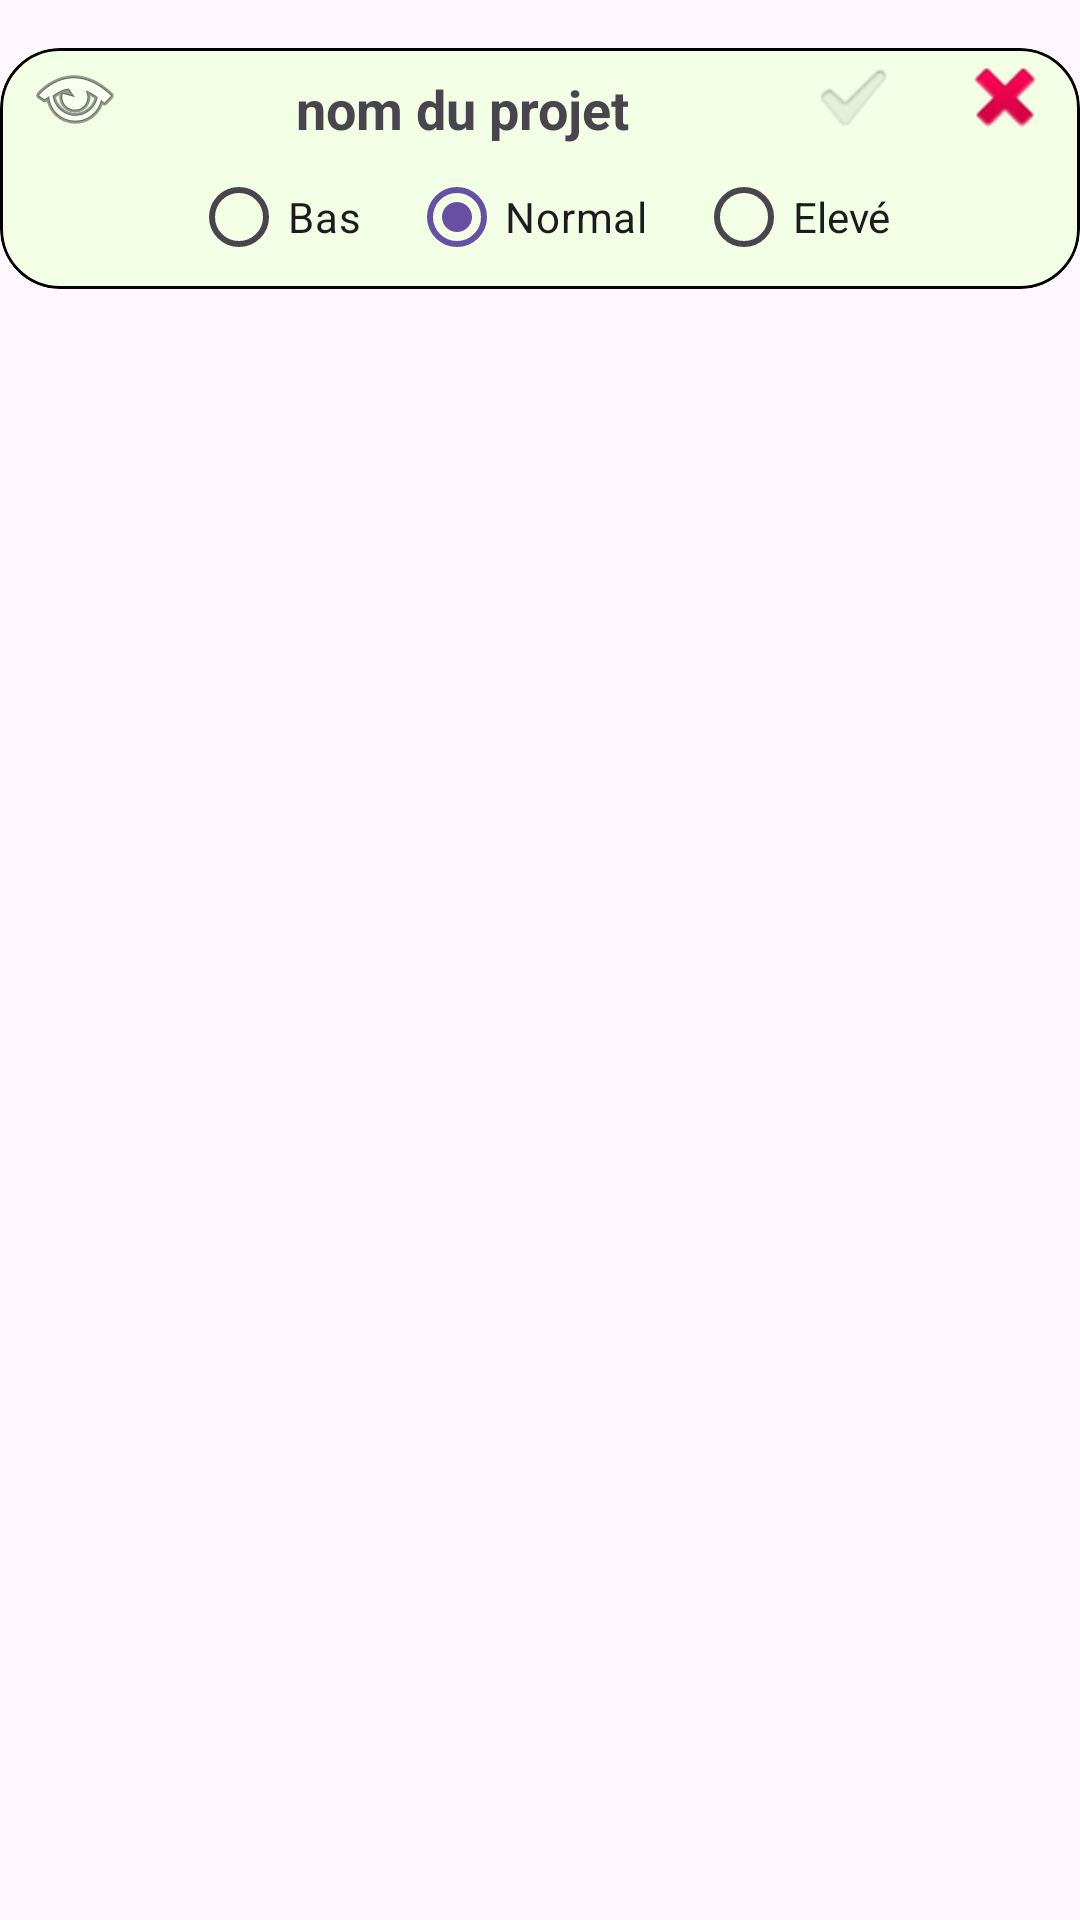

Icon bounding boxes for this 1080px×1920px phone screenshot, format (x1, y1, x2, y2):
DELETEEMPLOYEE: (974, 68, 1036, 127)
